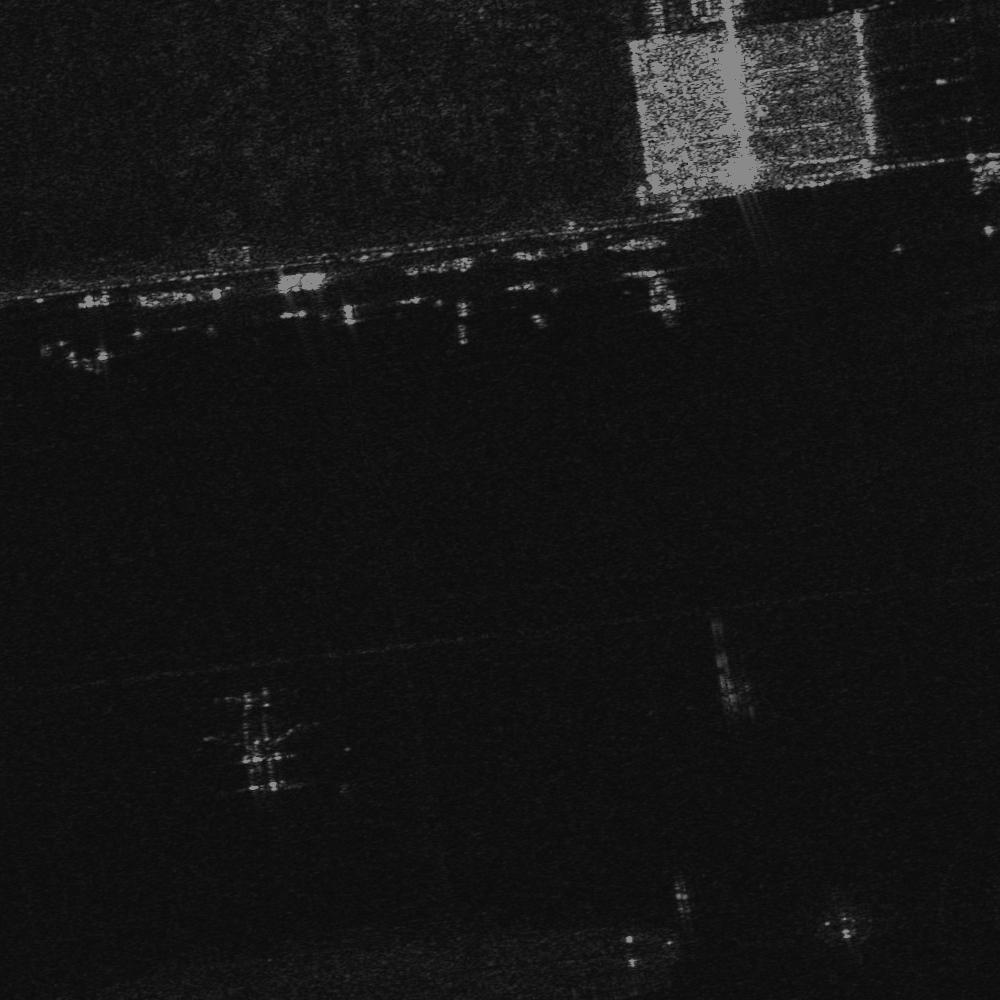A330: (205, 683, 306, 769), (819, 899, 868, 944)
